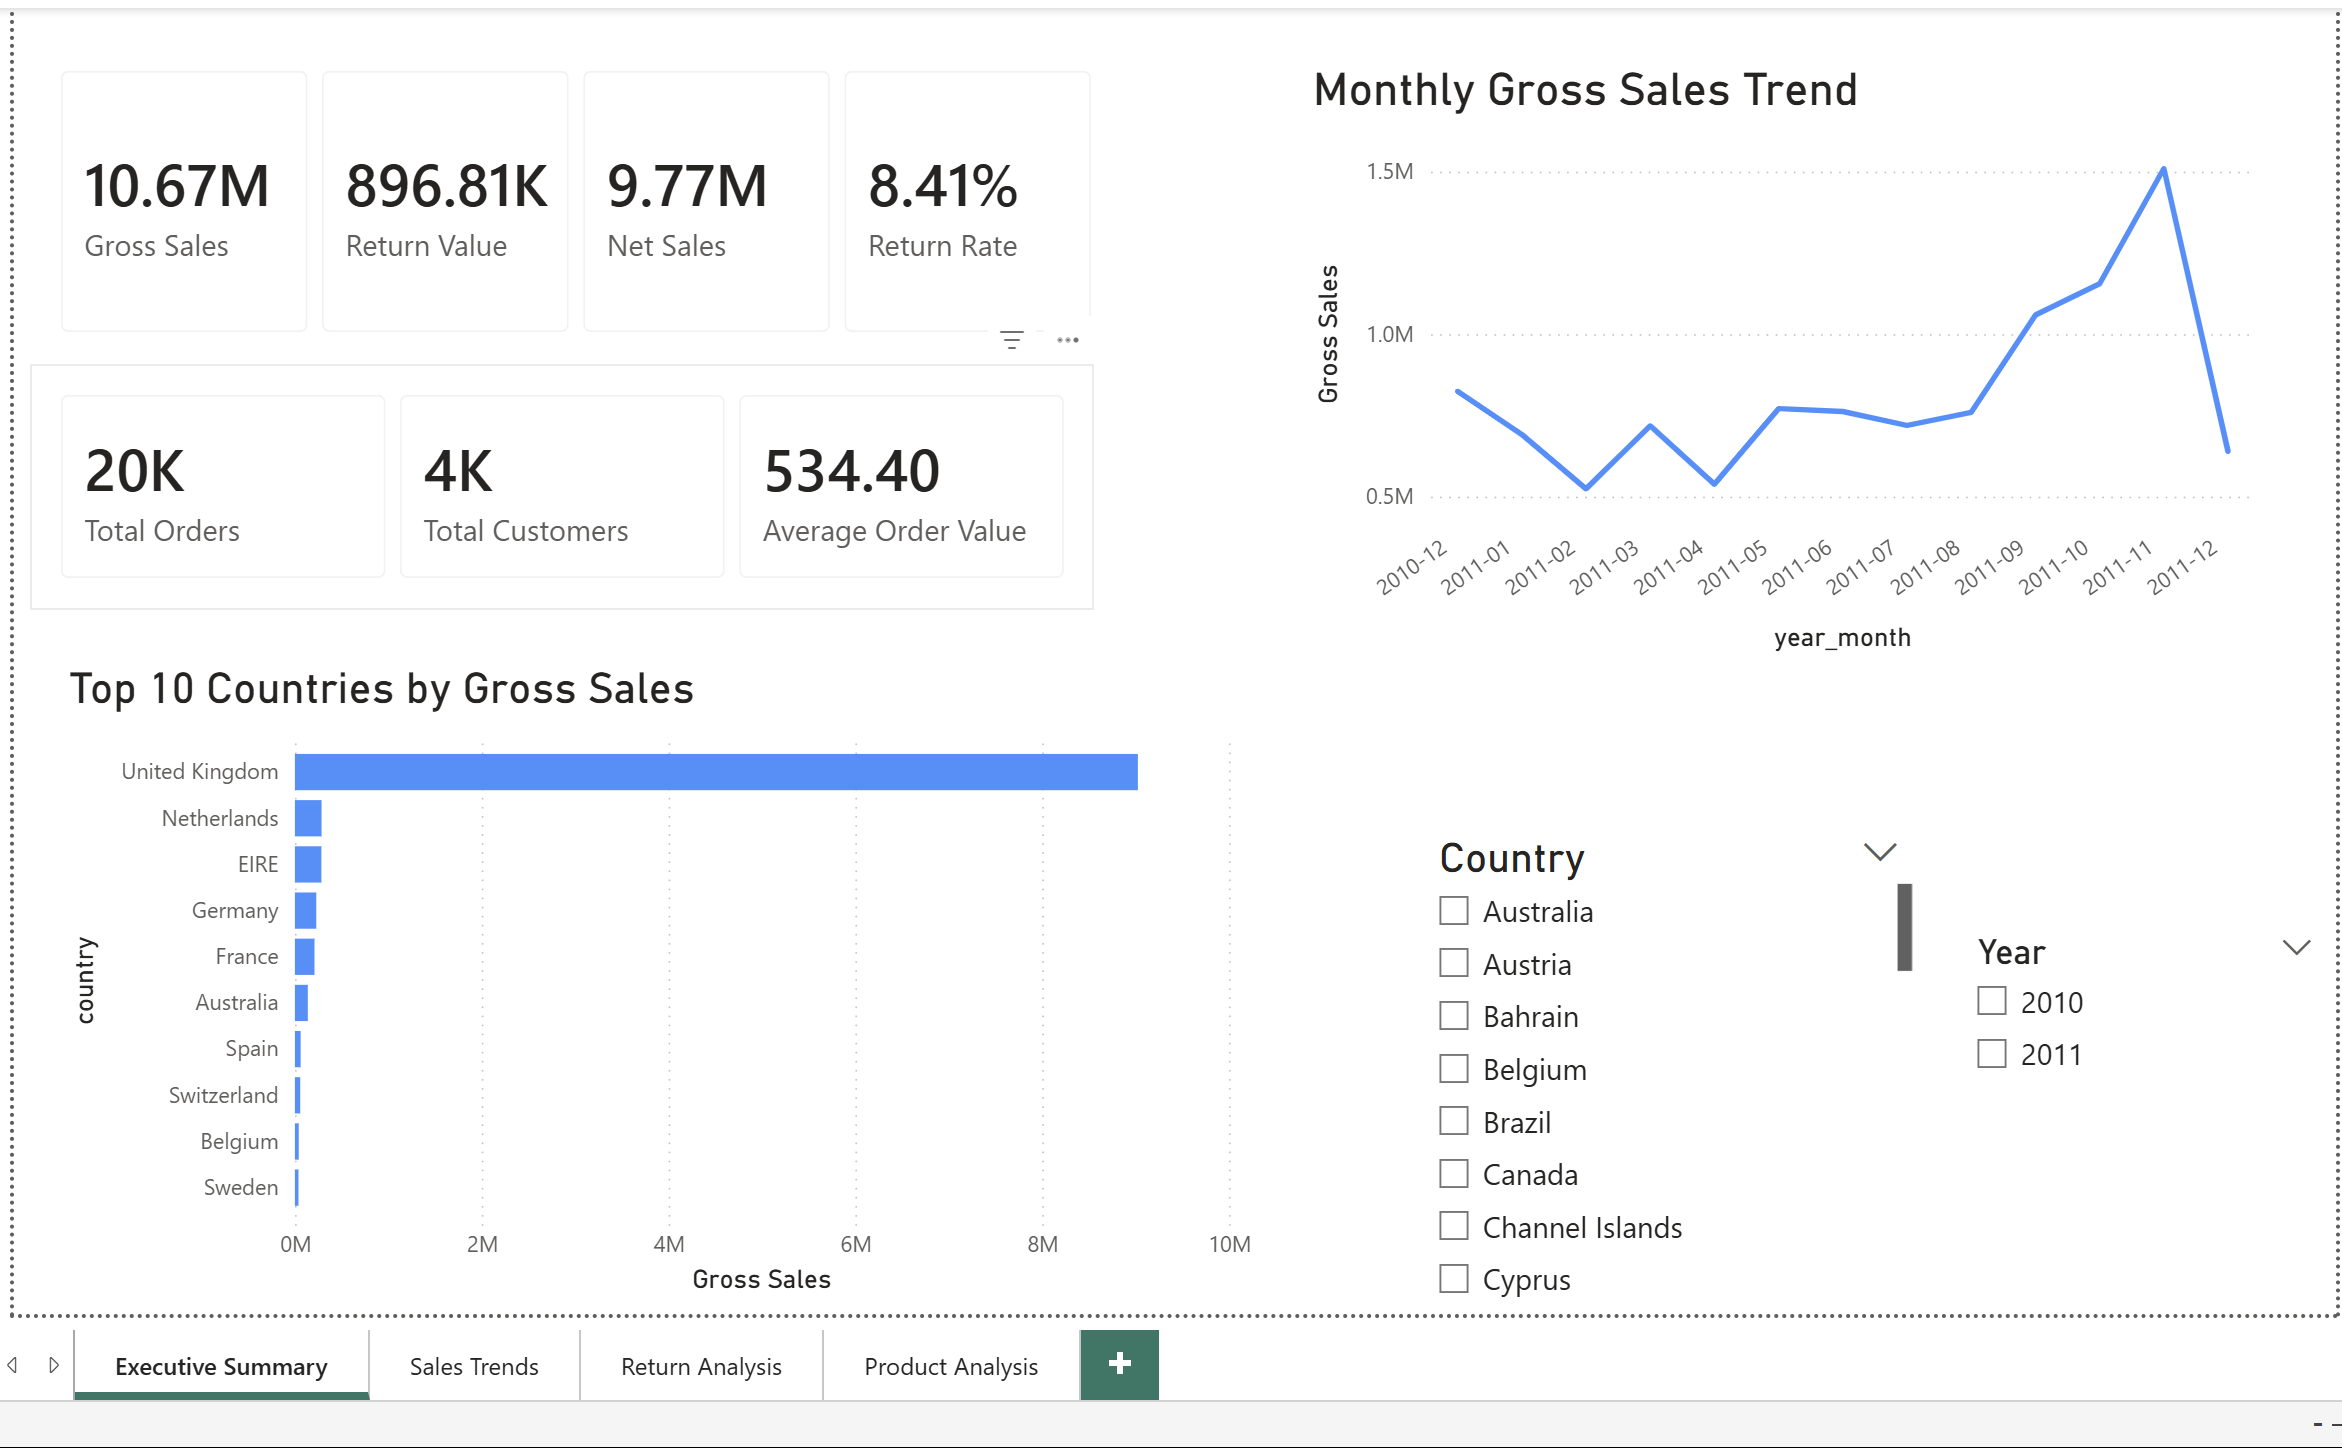

The dashboard page shown, as its layout file describes it:
{"tool":"powerbi","page":{"name":"Executive Summary","canvas":[1280,720],"ordinal":0},"visuals":[{"type":"cardVisual","fields":{"Data":["public v_fact_transactions_model_v2.Gross Sales","public v_fact_transactions_model_v2.Return Value","public v_fact_transactions_model_v2.Net Sales","public v_fact_transactions_model_v2.Return Rate"]},"box":[8.6,17.1,604.3,178.6],"z":0},{"type":"cardVisual","fields":{"Data":["public v_fact_transactions_model_v2.Total Orders","public v_fact_transactions_model_v2.Total Customers","public v_fact_transactions_model_v2.Average Order Value"]},"box":[8.6,195.7,587.1,135.7],"z":1000},{"type":"lineChart","title":"Monthly Gross Sales Trend","fields":{"Y":["public v_fact_transactions_model_v2.Gross Sales"],"Category":["public dim_date.year_month"]},"box":[711.4,30,528.6,330],"z":2000},{"type":"clusteredBarChart","title":"Top 10 Countries by Gross Sales","fields":{"Category":["public dim_country.country"],"Y":["public v_fact_transactions_model_v2.Gross Sales"]},"box":[25.7,360,661.4,352.9],"z":3000},{"type":"slicer","fields":{"Values":["public dim_date.year"]},"box":[1070,504.3,210,215.7],"z":4000},{"type":"slicer","fields":{"Values":["public dim_country.country"]},"box":[772.9,450,278.6,270],"z":5000}]}

Visuals, with their boxes on the page's 1280x720 design canvas (x1, y1, x2, y2). These are canvas units, not pixel positions in the 2342x1448 screenshot, which may show the page scaled, cropped or inside an application window:
cardVisual - public v_fact_transactions_model_v2.Gross Sales x public v_fact_transactions_model_v2.Return Value: <region>9, 17, 613, 196</region>
cardVisual - public v_fact_transactions_model_v2.Total Orders x public v_fact_transactions_model_v2.Total Customers: <region>9, 196, 596, 331</region>
"Monthly Gross Sales Trend" lineChart: <region>711, 30, 1240, 360</region>
"Top 10 Countries by Gross Sales" clusteredBarChart: <region>26, 360, 687, 713</region>
slicer - public dim_date.year: <region>1070, 504, 1280, 720</region>
slicer - public dim_country.country: <region>773, 450, 1052, 720</region>
